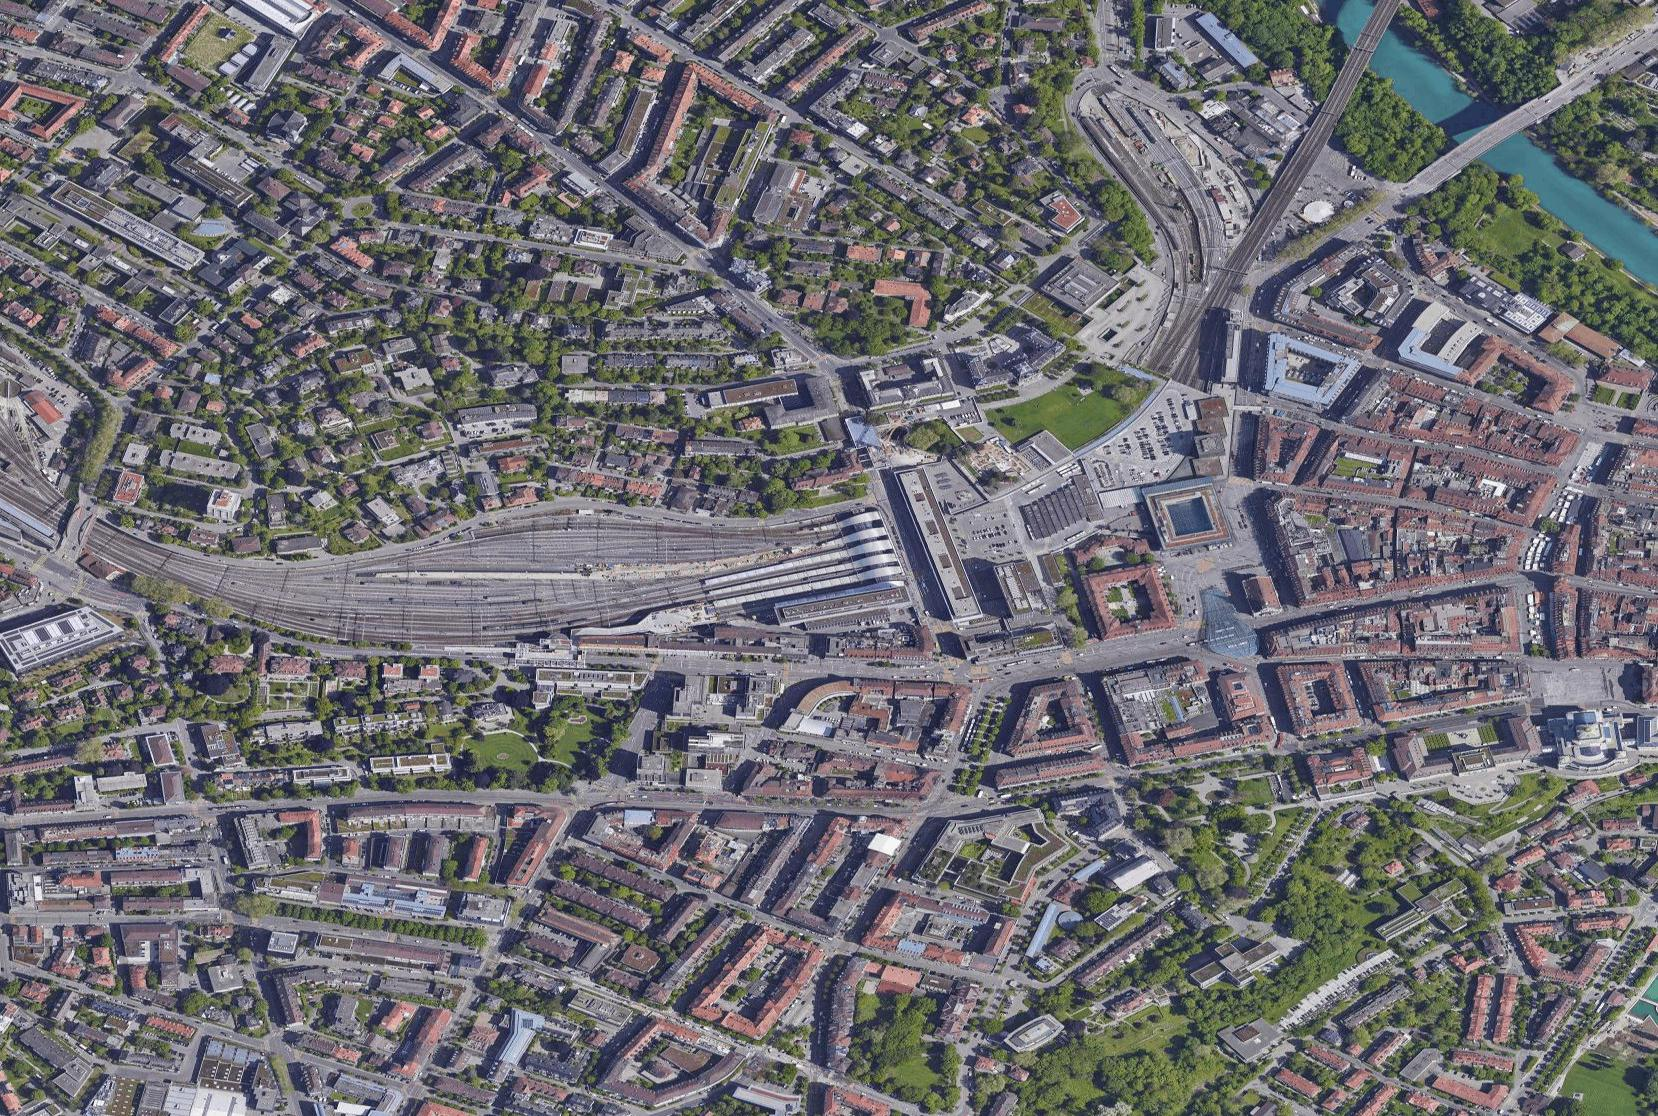bridge: (1459, 103, 1528, 159), (54, 494, 98, 560), (1345, 6, 1394, 66)
train_station: (710, 499, 914, 633)
